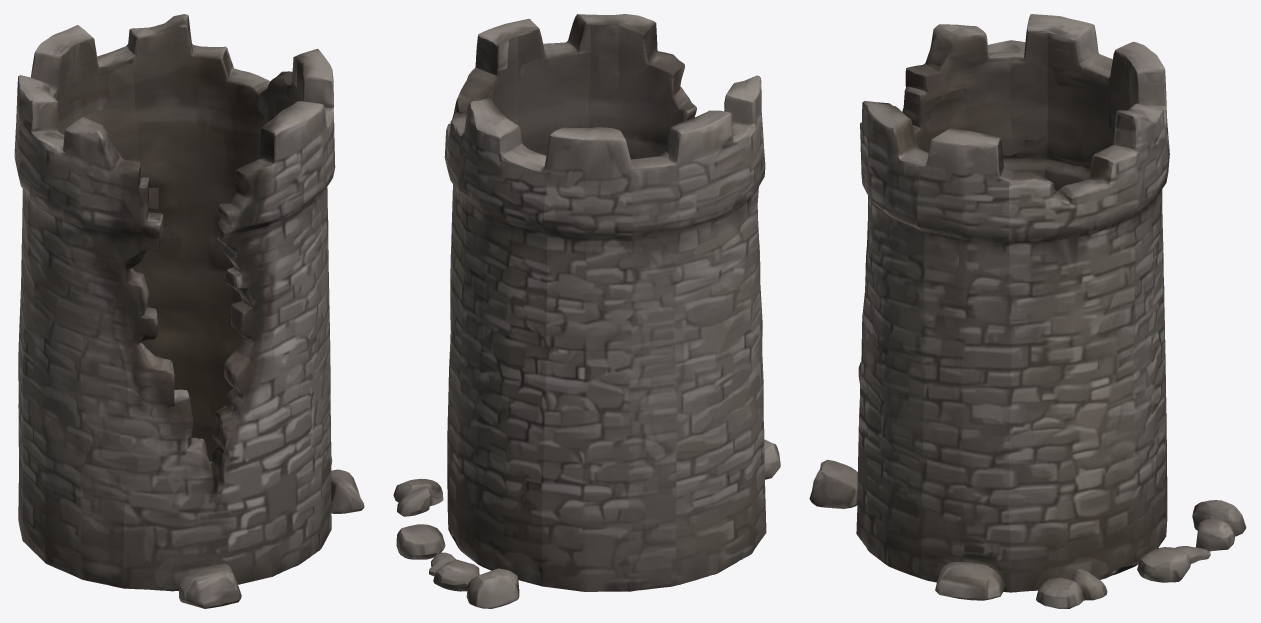
File: ruin_tower.glb
3 renders of one model, left to right at view 1: azimuth 30°, elevation 25°; view 2: azimuth 150°, elevation 25°; view 3: azimuth 270°, elevation 25°, orthographic.
Parts seen in each view (by area): view 1: geometry_0; view 2: geometry_0; view 3: geometry_0.
Boxes of the visible parts, bbox=[...] form: geometry_0: bbox=[14, 14, 364, 608]; geometry_0: bbox=[393, 14, 780, 608]; geometry_0: bbox=[809, 14, 1246, 608].
Size of the model in its own units: 0.3355 by 0.45 by 0.3959.
1 material, 1 textured.
